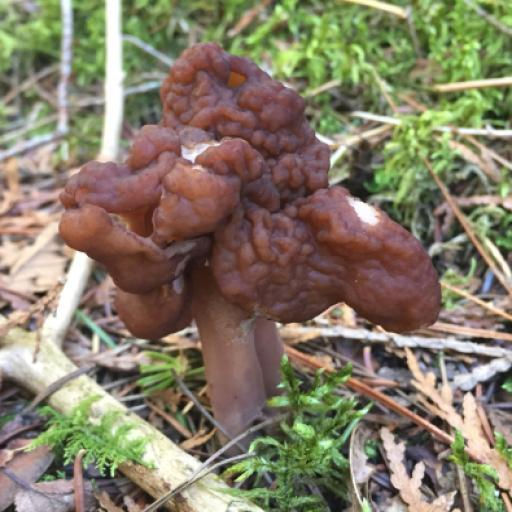mushroom: (18, 24, 470, 478)
